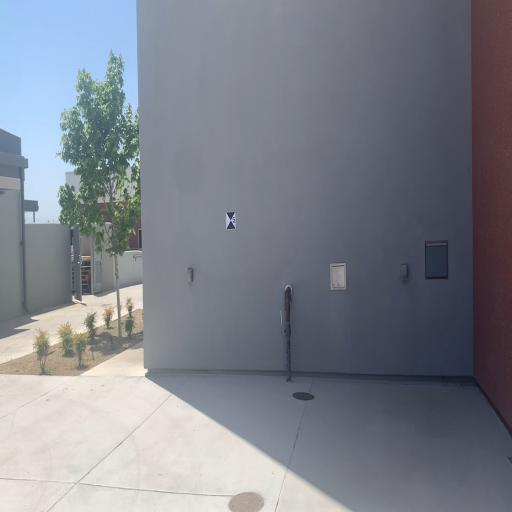target5: (226, 212, 236, 231)
